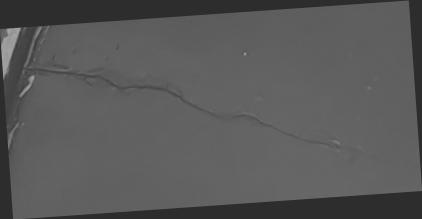crack: (1, 0, 422, 219)
